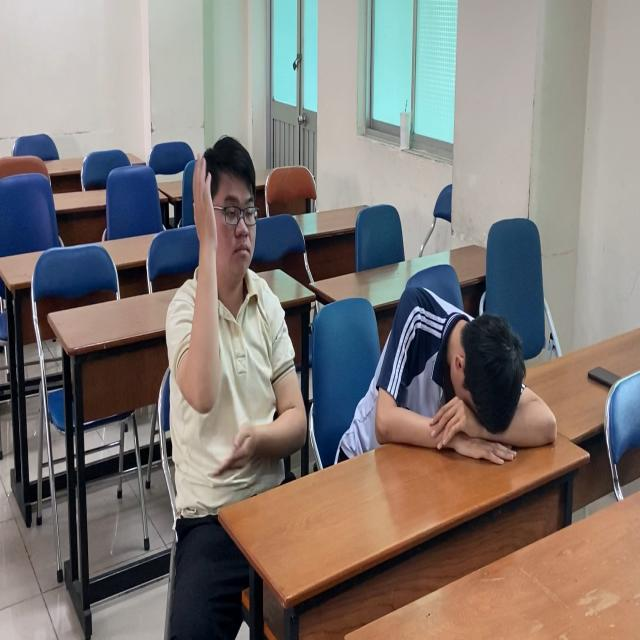raise_hand: (161, 131, 302, 521)
sleep: (350, 269, 558, 488)
